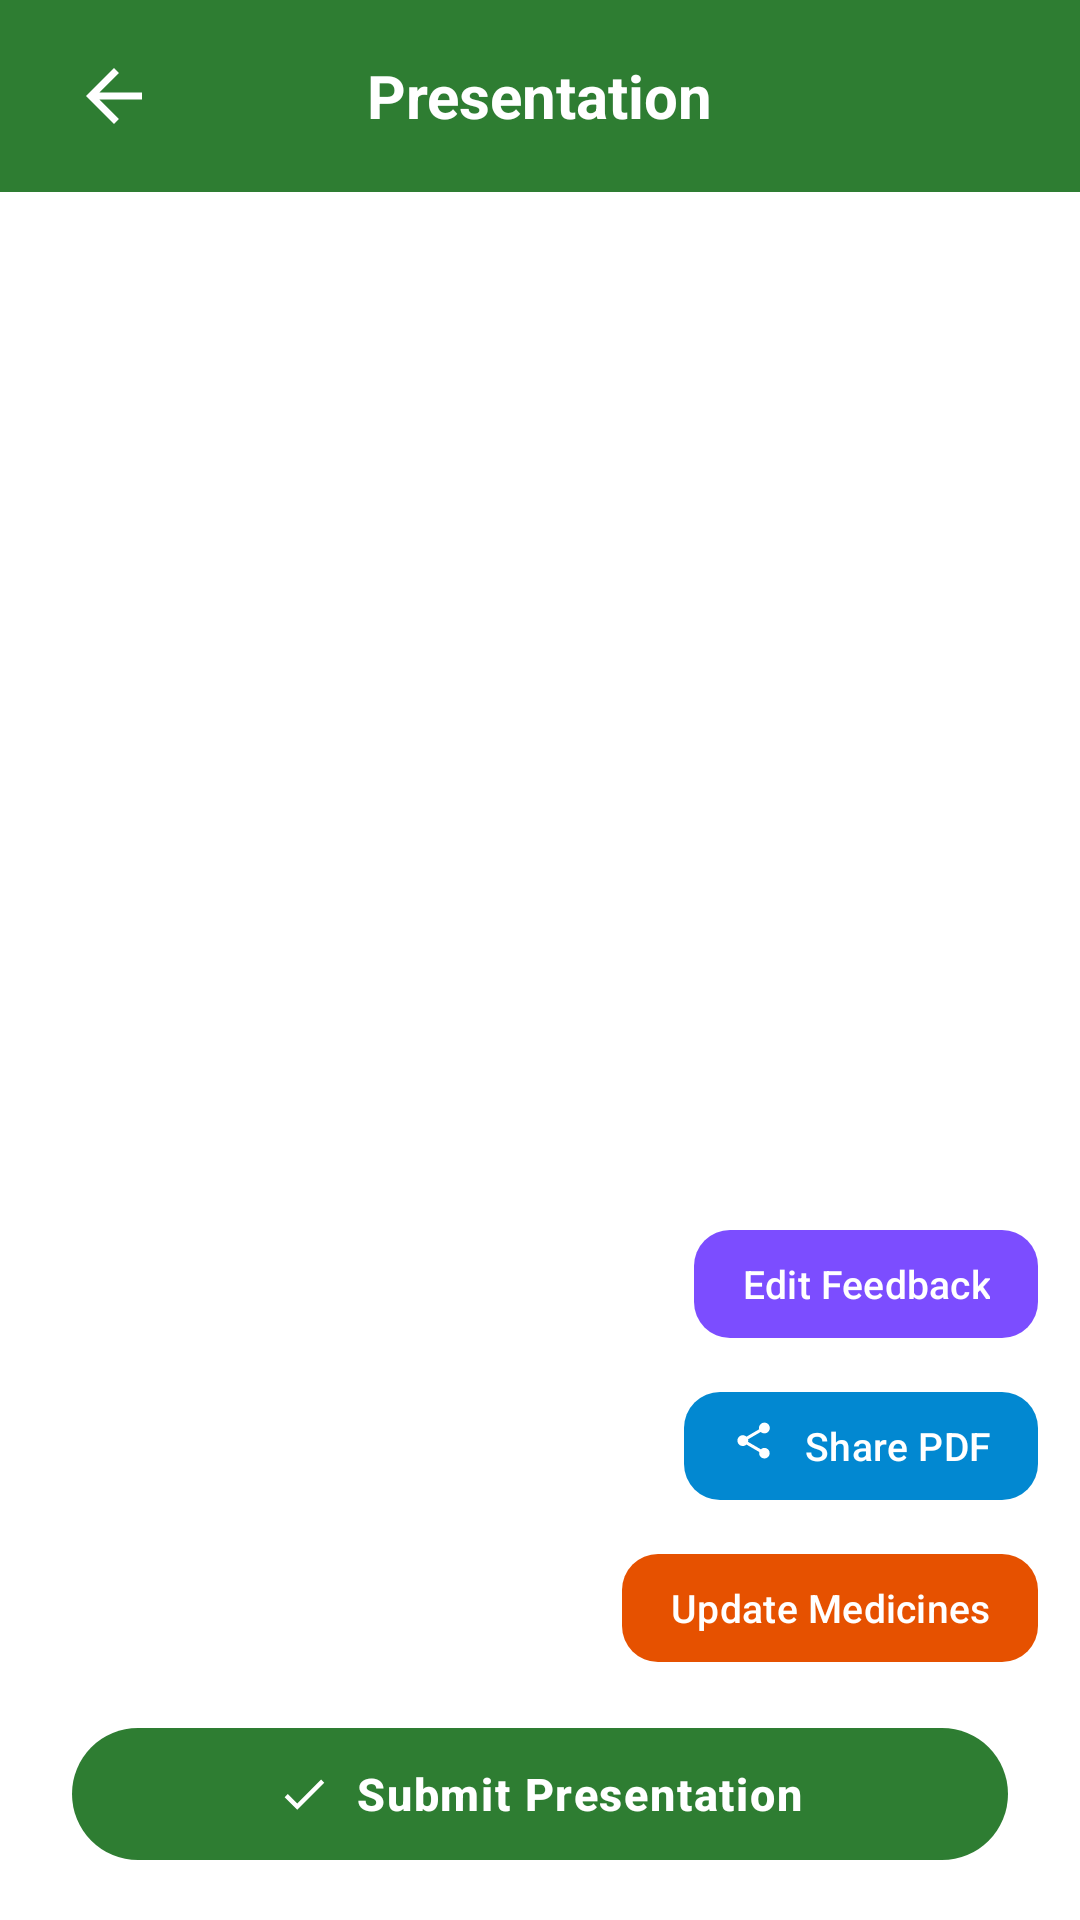

Icons on this 1080 × 1920 Android screen, each with its box as bbox=[x1, y1, x2, y2]:
Back: bbox=[86, 68, 142, 124]
